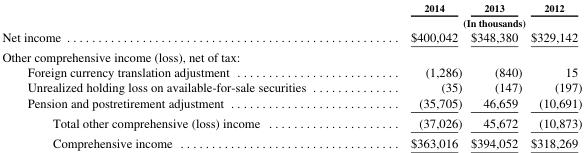table: (1, 1, 581, 149)
table column: (1, 1, 357, 149), (357, 1, 465, 149), (465, 1, 525, 149), (525, 1, 581, 149)
table column header: (1, 1, 581, 28)
table projected row header: (1, 46, 581, 64)
table row: (1, 112, 581, 132), (1, 28, 581, 46), (1, 46, 581, 64), (1, 94, 581, 112), (1, 132, 581, 149), (1, 64, 581, 79), (1, 79, 581, 94), (1, 14, 581, 28), (1, 1, 581, 14)
table spanning cell: (357, 14, 581, 28)
